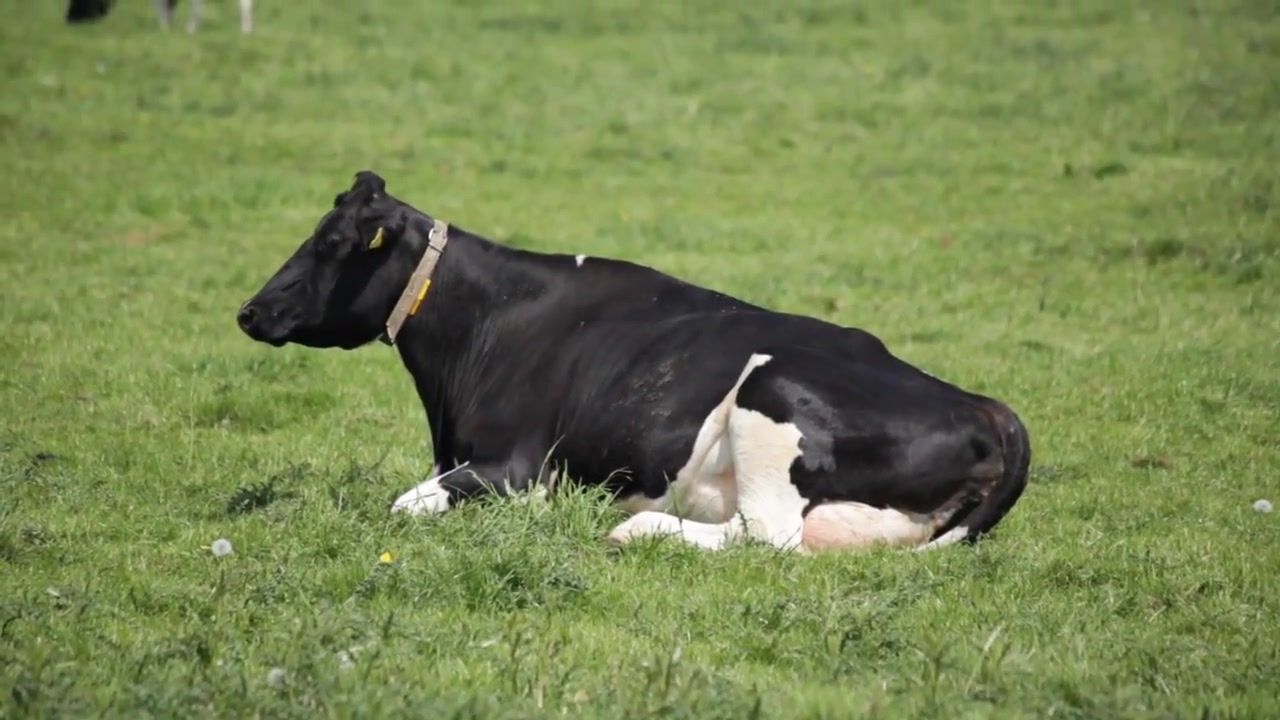cow: (235, 169, 1034, 560)
